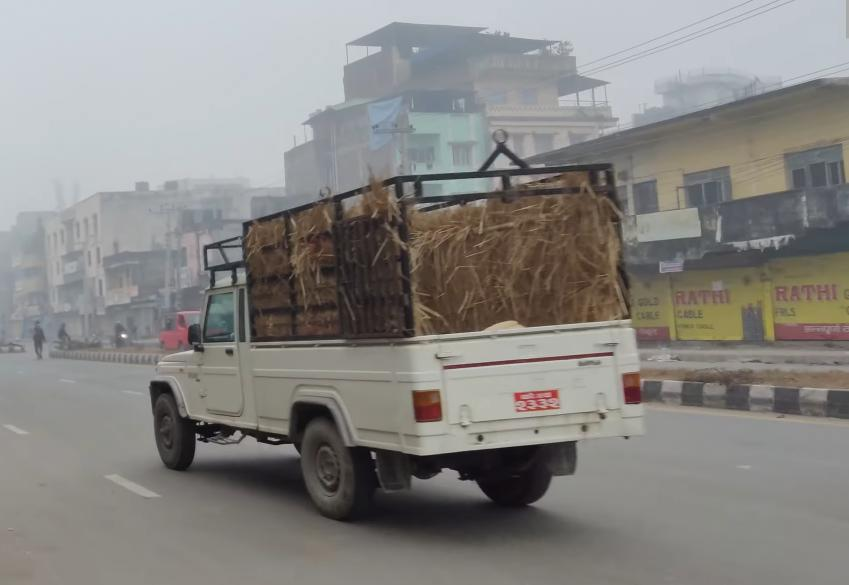transport_vehicle: (143, 153, 660, 521)
